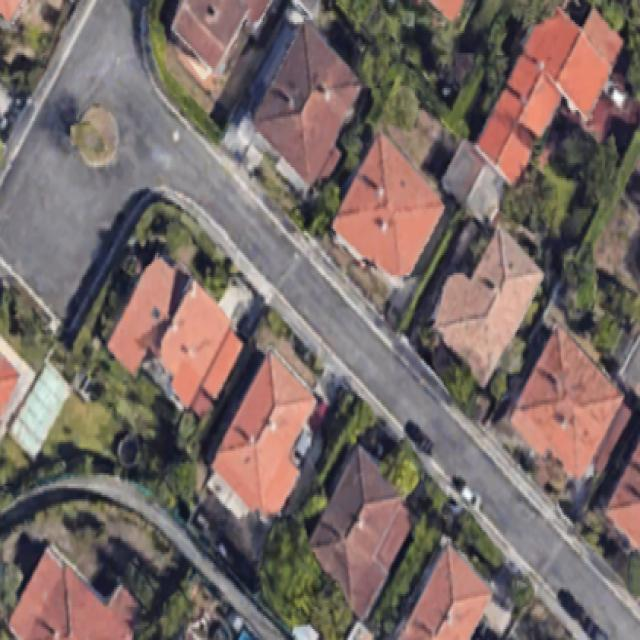maison: (194, 350, 343, 531), (235, 22, 388, 193), (288, 446, 430, 619), (412, 218, 552, 385), (494, 325, 640, 480), (324, 132, 458, 279), (9, 548, 135, 638), (394, 540, 502, 640)
